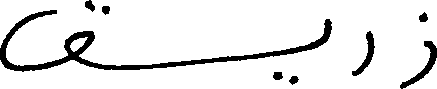ر: (353, 29, 374, 77)
ز: (399, 10, 435, 87)
ق: (0, 0, 117, 72)
ي: (268, 17, 332, 87)
